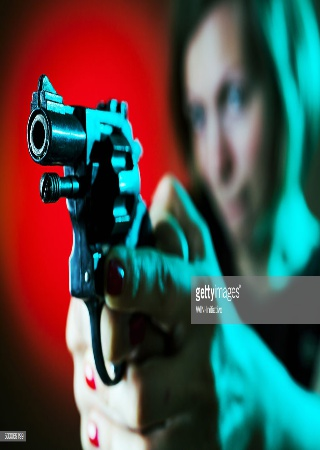handgun: (19, 70, 147, 392)
